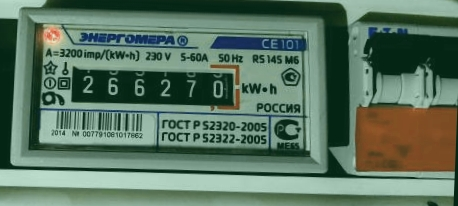0: (211, 78, 225, 99)
2: (80, 74, 96, 95), (158, 77, 173, 98)
6: (106, 75, 120, 96), (133, 77, 147, 98)
7: (184, 78, 197, 98)
screen: (61, 55, 247, 115)
